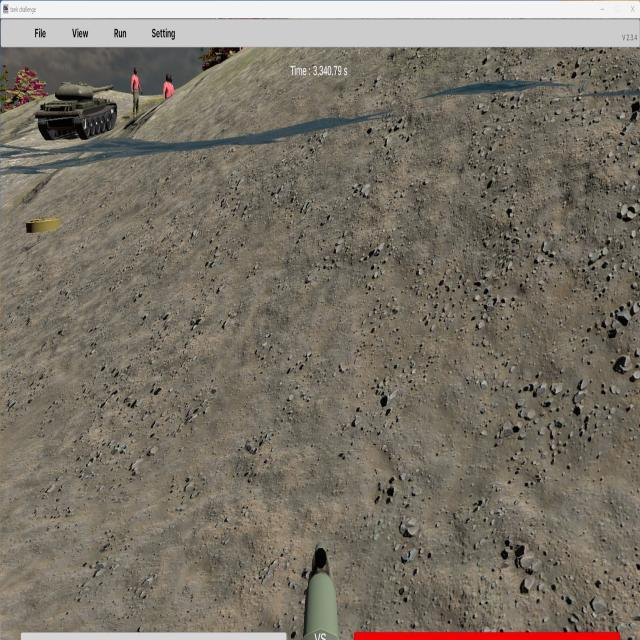Human: (163, 73, 176, 126), (132, 66, 143, 125)
Tank: (36, 81, 118, 141)
